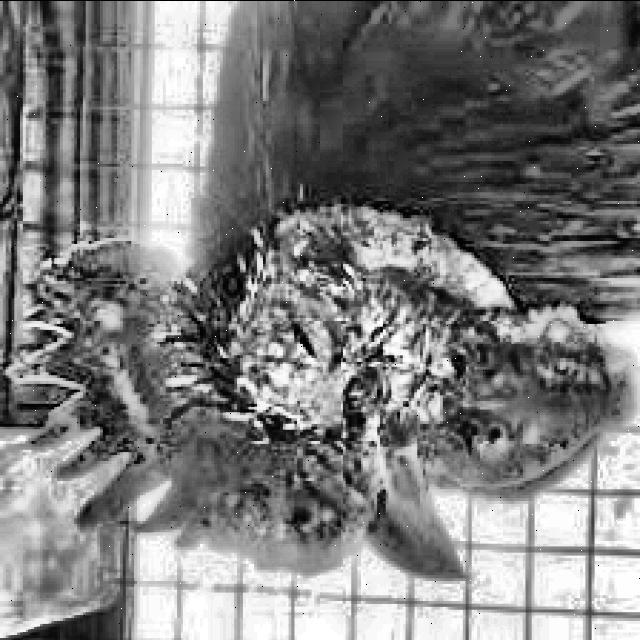Fowlpox: (69, 209, 537, 588)
